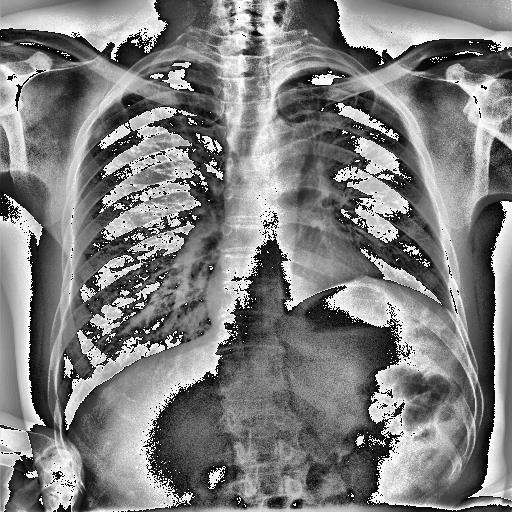0- Aortic enlargement: (252, 120, 309, 172)
11- Pleural thickening: (277, 51, 368, 83), (166, 60, 188, 64)
13- Pulmonary fibrosis: (94, 124, 108, 140)
7- Lung Opacity: (94, 124, 108, 140)
9- Other lesion: (283, 276, 460, 345), (289, 272, 454, 332), (286, 274, 456, 316)
